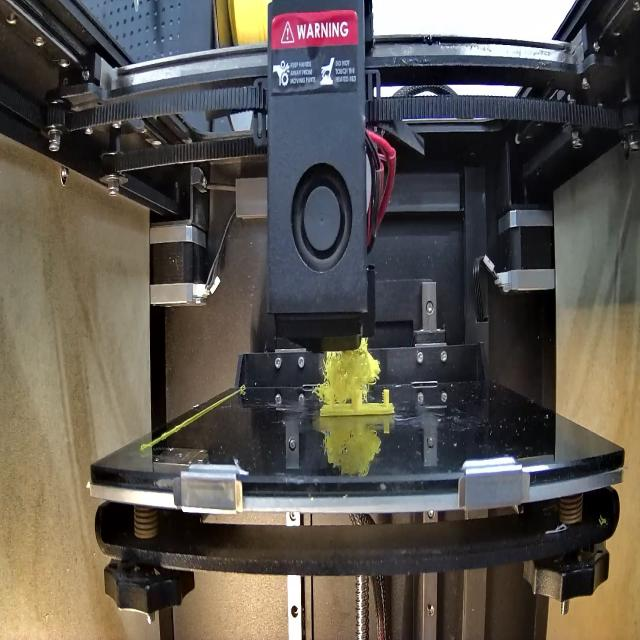spaghetti: (315, 339, 383, 405)
